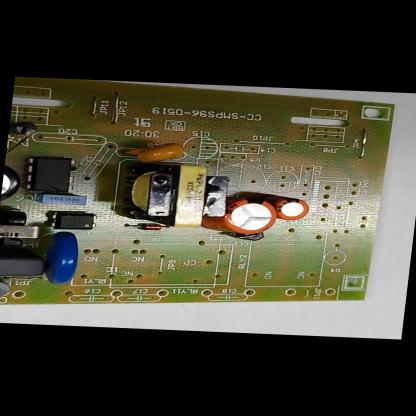Cap1: (221, 199, 278, 233)
Cap2: (274, 199, 310, 220)
MOSFET: (23, 156, 76, 192)
Mov: (49, 232, 81, 286)
Resistor: (0, 276, 10, 303)
Transformer: (116, 164, 232, 228), (0, 210, 42, 254)
